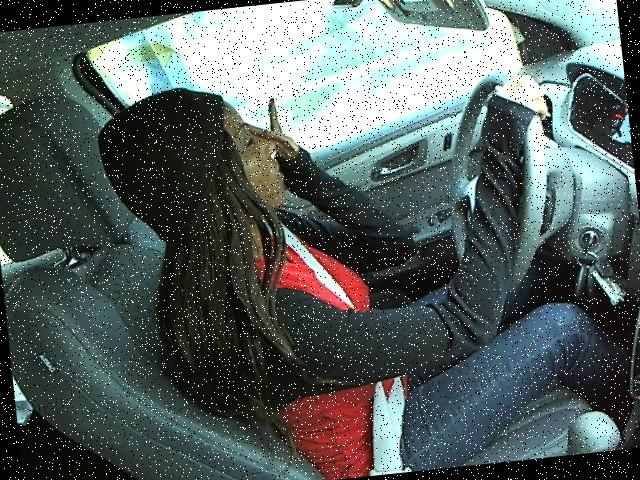c6 - Hair and Makeup: (83, 35, 590, 423)
